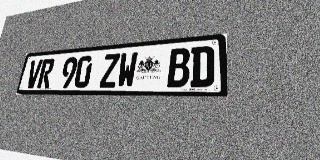0: (73, 55, 93, 88)
9: (59, 56, 79, 88)
B: (167, 47, 190, 87)
D: (190, 45, 214, 87)
R: (37, 58, 55, 88)
V: (25, 59, 43, 88)
W: (116, 52, 138, 88)
Z: (99, 53, 120, 88)
